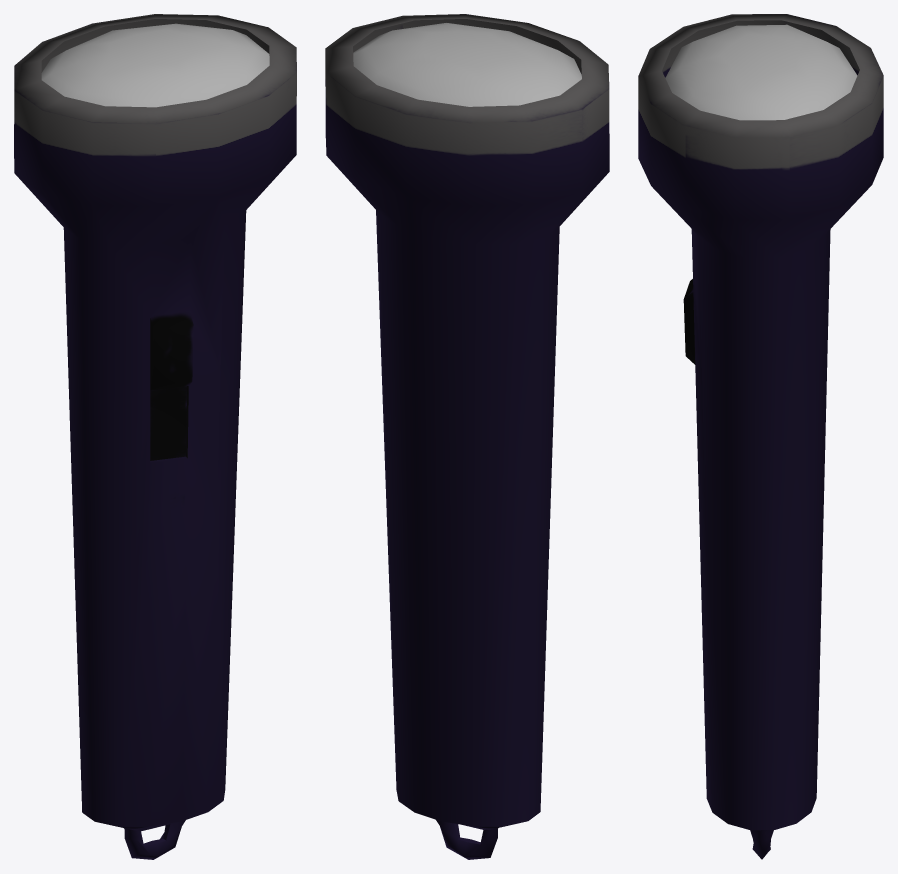
Rendered from Flashlight_Model.fbx.
3 renders of one model, left to right at view 1: azimuth 30°, elevation 25°; view 2: azimuth 150°, elevation 25°; view 3: azimuth 270°, elevation 25°, orthographic.
Parts seen in each view (by area): view 1: polySurface1; view 2: polySurface1; view 3: polySurface1.
Boxes of the visible parts, x1,y1,x2,y2 form: polySurface1: (14,14,296,859); polySurface1: (325,14,609,859); polySurface1: (638,14,883,859).
Bounding box in the file's own units: 2.09 × 6.35 × 1.76.
